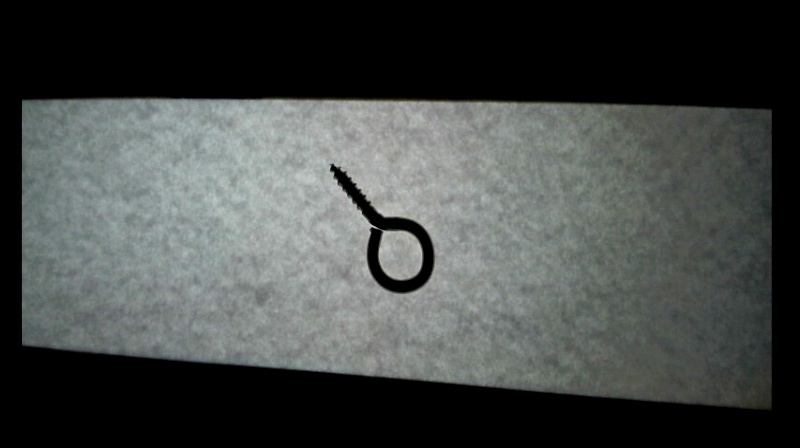O001: (327, 158, 438, 296)
